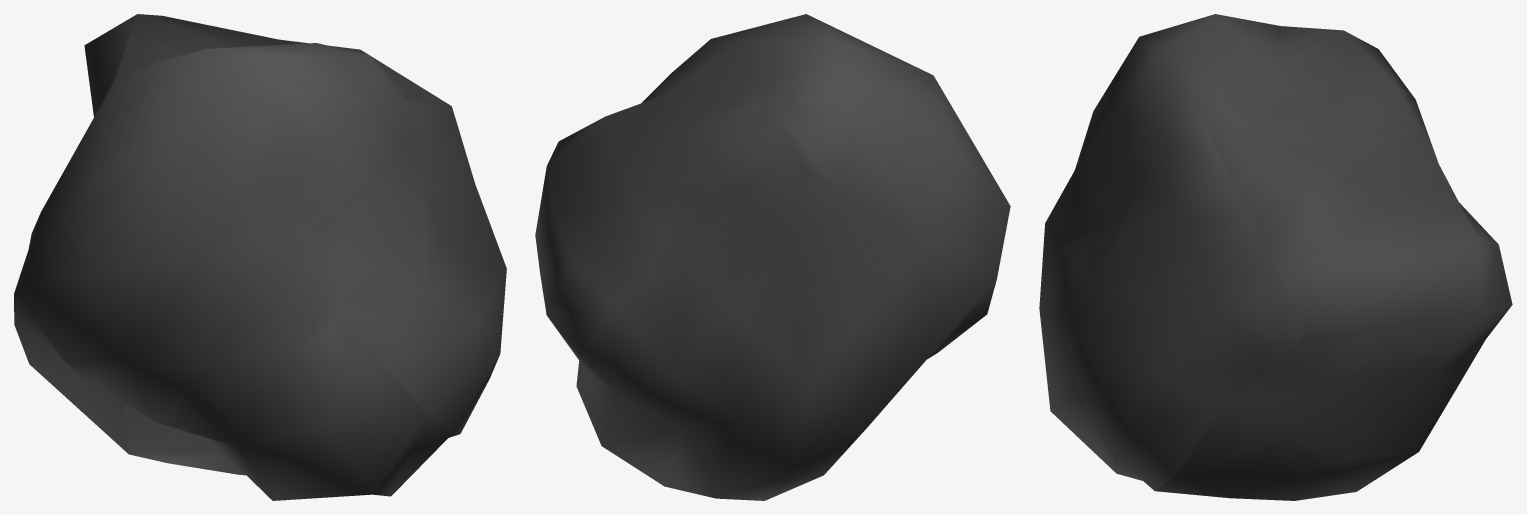
Rendered from Roca3.fbx.
3 renders of one model, left to right at view 1: azimuth 30°, elevation 25°; view 2: azimuth 150°, elevation 25°; view 3: azimuth 270°, elevation 25°, orthographic. The views are drawn at different scales.
Visible parts, largest first — view 1: Cube.003; view 2: Cube.003; view 3: Cube.003.
Part boxes in pixels (x1,y1,x2,y2): Cube.003: (14,14,506,500); Cube.003: (535,14,1010,500); Cube.003: (1039,14,1512,500).
Bounding box in the file's own units: 50.89 × 49.78 × 49.52.
